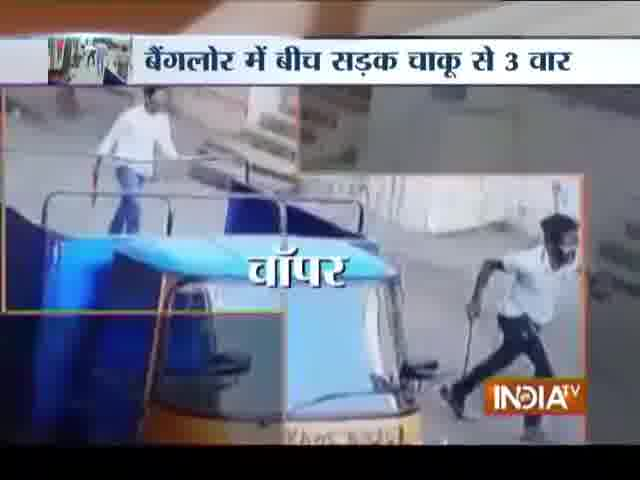knife: (455, 318, 481, 384), (88, 166, 100, 212)
knife in hand: (441, 272, 507, 393), (80, 111, 129, 212)
person: (474, 208, 580, 414), (109, 88, 175, 233)
